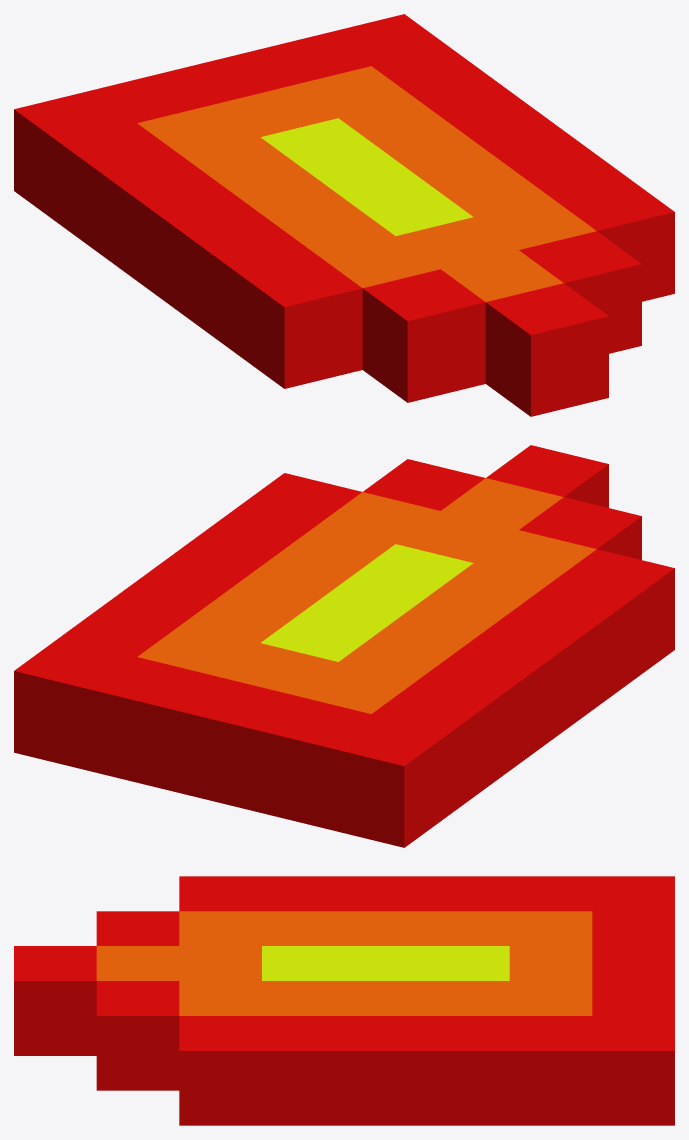
The model's file is Flame.obj.
3 renders of one model, top to bottom at view 1: azimuth 30°, elevation 25°; view 2: azimuth 150°, elevation 25°; view 3: azimuth 270°, elevation 25°, orthographic. The views are drawn at different scales.
Bounding box in the file's own units: 0.5 × 0.1 × 0.8.
1 material, 1 textured.
